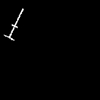double_crochet: (9, 9, 22, 39)
